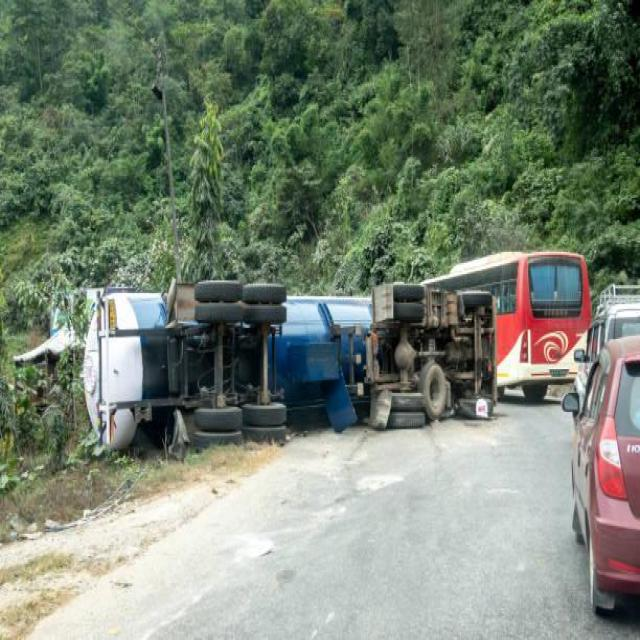accident: (52, 269, 504, 455)
